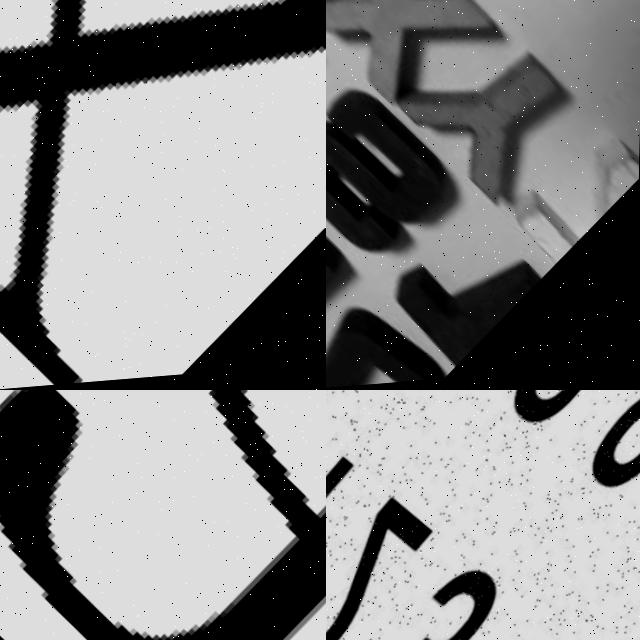1: (326, 426, 382, 629)
2: (326, 466, 466, 640)
3: (326, 538, 537, 640)
8: (465, 390, 640, 472)
9: (547, 390, 640, 536)
A: (0, 390, 326, 640)
O: (326, 296, 450, 390)
S: (326, 78, 464, 281)
T: (384, 210, 550, 382)
X: (0, 0, 326, 390), (326, 0, 495, 125)
Y: (405, 23, 597, 224)
